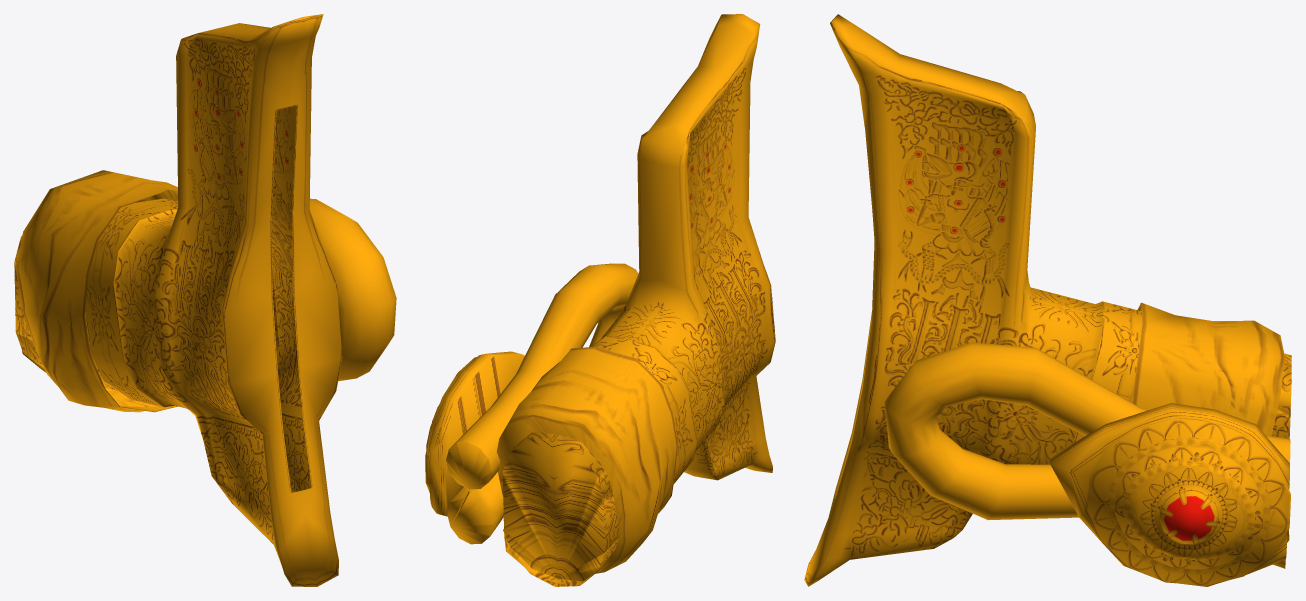
Rendered from Tatarapang_terpotong.fbx.
3 views of the same model, side by side, from view 1: azimuth 30°, elevation 25°; view 2: azimuth 150°, elevation 25°; view 3: azimuth 270°, elevation 25° (orthographic). The views are drawn at different scales.
Parts seen in each view (by area): view 1: sarung2a-lp.001_Material-Sarung1.001_0.001; view 2: sarung2a-lp.001_Material-Sarung1.001_0.001; view 3: sarung2a-lp.001_Material-Sarung1.001_0.001.
Boxes of the visible parts, x1,y1,x2,y2 form: sarung2a-lp.001_Material-Sarung1.001_0.001: (14,14,396,586); sarung2a-lp.001_Material-Sarung1.001_0.001: (425,14,775,586); sarung2a-lp.001_Material-Sarung1.001_0.001: (804,14,1291,586).
Size of the model in its own units: 19.01 by 37.12 by 29.33.
2 materials, 2 textured.
